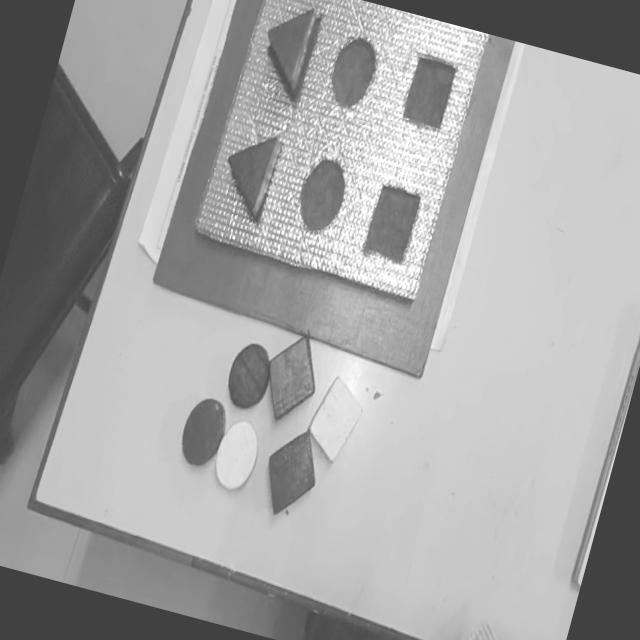bcircle: (220, 338, 276, 414)
bcube: (255, 422, 327, 522)
btriangle: (213, 125, 284, 222)
mtcircle: (291, 153, 354, 240), (323, 33, 382, 114)
mtcube: (359, 179, 424, 266), (398, 53, 458, 134)
rcircle: (174, 394, 230, 472)
rcube: (256, 330, 326, 428)
rtriangle: (251, 0, 320, 98)
wb: (184, 0, 491, 309)
ycircle: (208, 414, 266, 496)
ycube: (300, 370, 370, 468)
